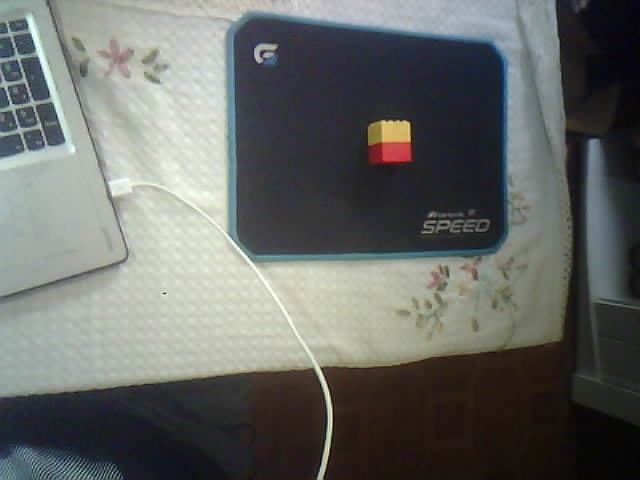lego: (366, 119, 413, 165)
